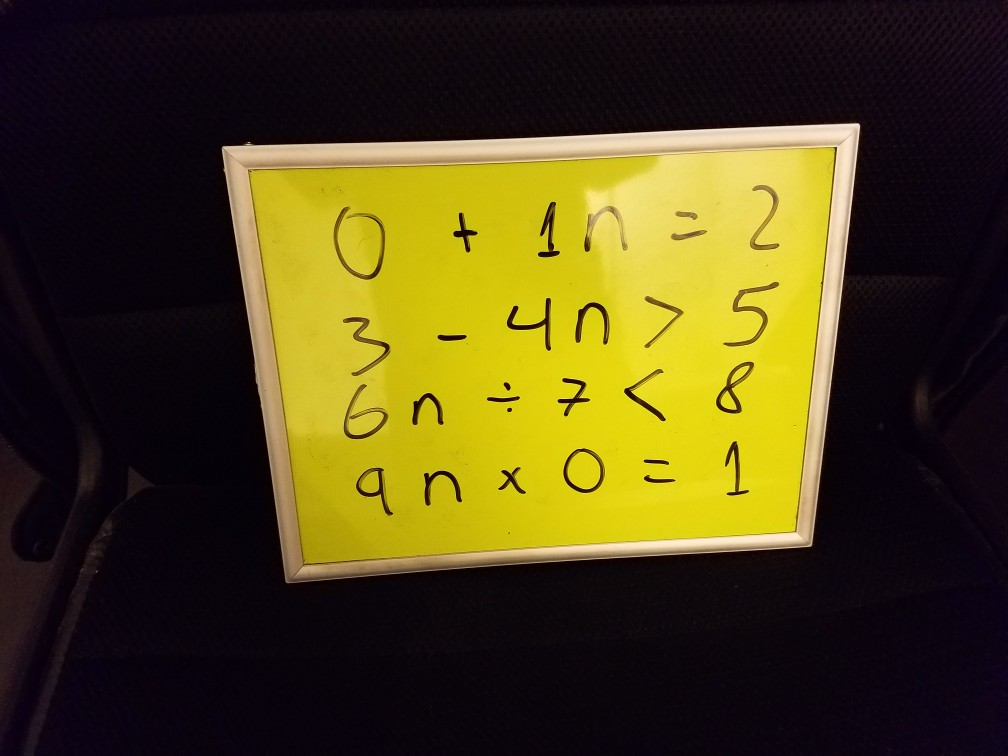+: (451, 209, 485, 259)
-: (429, 322, 473, 347)
0: (326, 199, 394, 286), (557, 442, 612, 498)
1: (533, 193, 565, 269), (716, 438, 752, 501)
2: (742, 179, 789, 259)
3: (339, 306, 394, 377)
4: (504, 291, 559, 358)
5: (720, 279, 787, 354)
6: (336, 382, 391, 441)
7: (551, 369, 597, 427)
8: (711, 357, 758, 420)
9: (348, 459, 397, 522)
<: (615, 364, 673, 427)
=: (632, 452, 682, 495), (665, 200, 710, 245)
>: (633, 291, 689, 351)
div: (481, 374, 528, 418)
n: (580, 204, 633, 259), (417, 462, 468, 516), (570, 298, 618, 352), (407, 386, 451, 435)
x: (495, 462, 532, 503)
